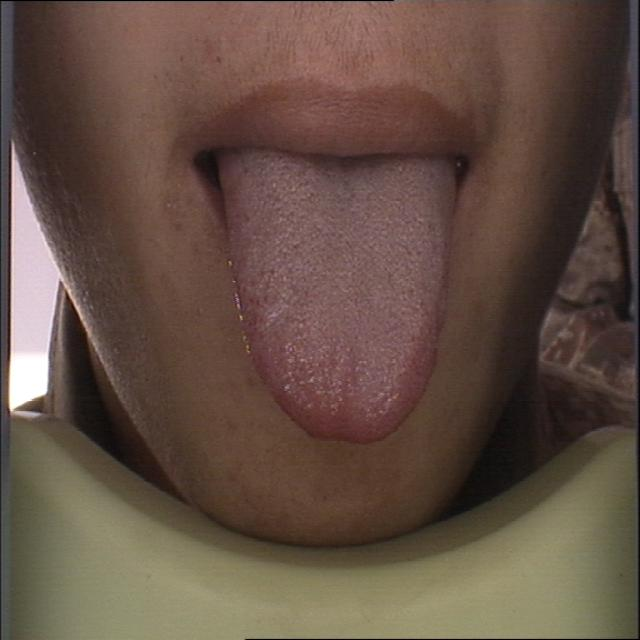tongue: (218, 144, 460, 446)
